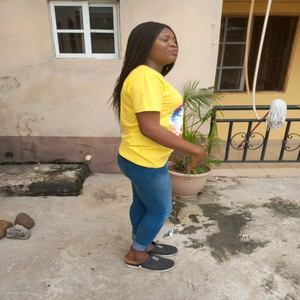Fulokoja_female_student: (122, 22, 183, 265)
